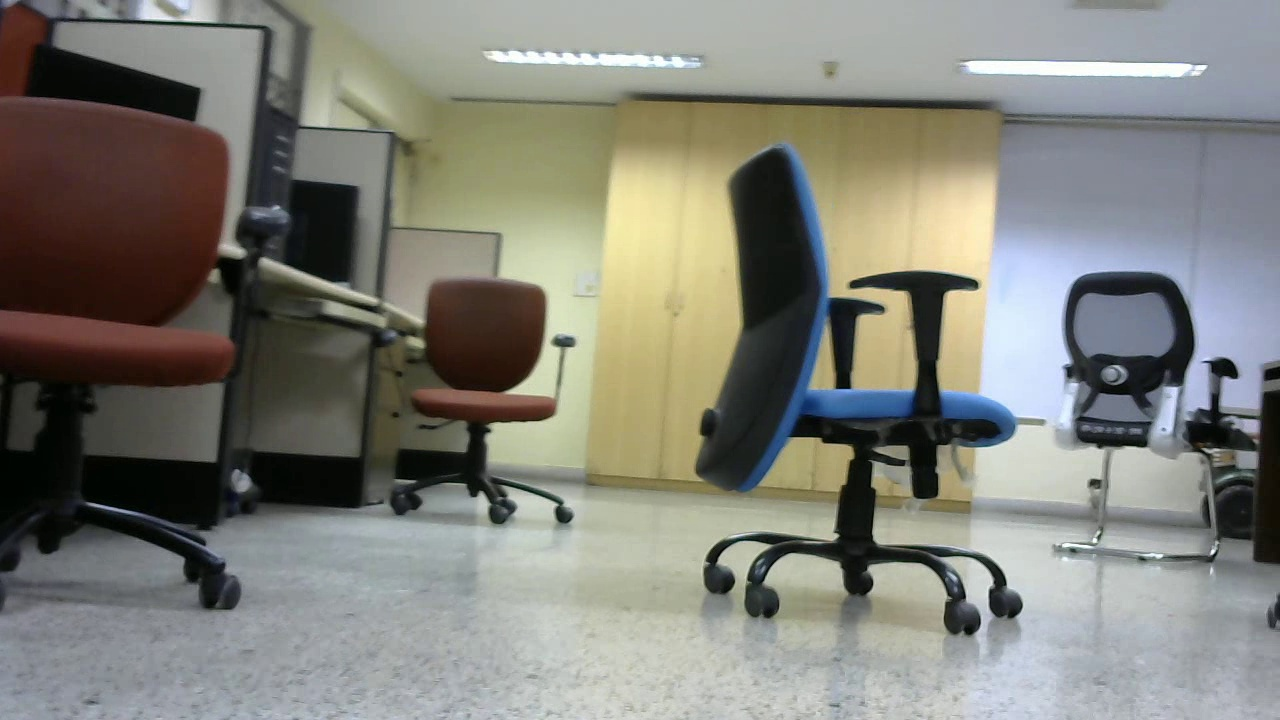chair: (668, 84, 1056, 638), (4, 91, 251, 611), (1019, 246, 1236, 570), (386, 267, 588, 534)
